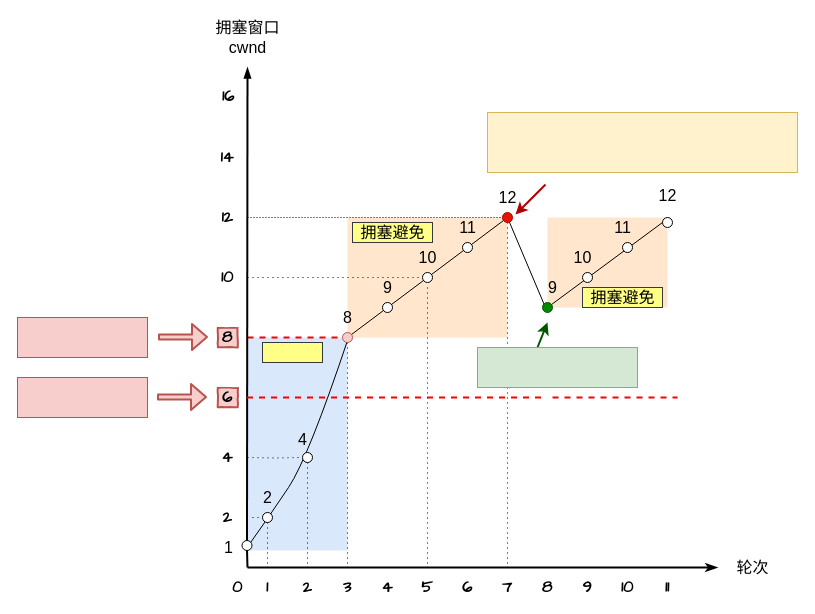
Image size: 815x614. Some labels were removed from this diagram. Each missing label, with the centre of its shape:
"初始慢启动门限 ssthresh" goes at (x=82, y=337).
"快恢复 cwnd = ssthresh + 3" goes at (x=557, y=367).
"慢启动" goes at (x=292, y=352).
"收到三个重复的 ACK，触发快速重传机制 ① cwnd 变为原来的一半 ② ssthresh = cwnd" goes at (x=642, y=142).
"更新慢启动门限 ssthresh" goes at (x=82, y=397).
